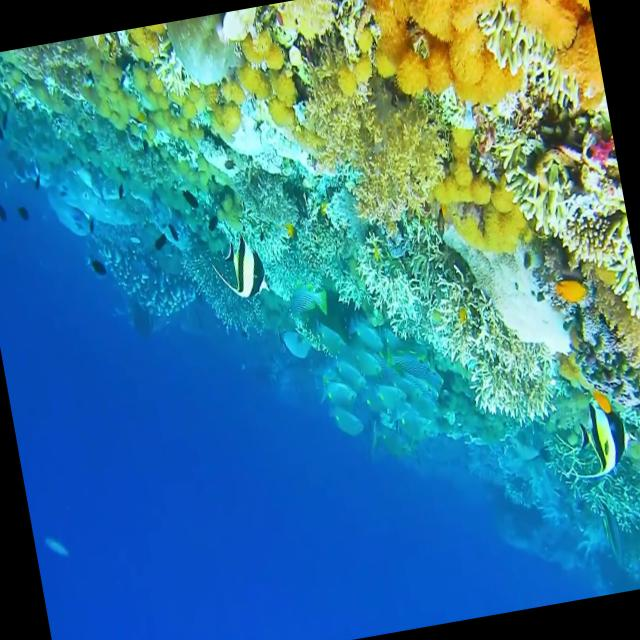fish: (560, 386, 640, 498), (204, 224, 275, 315), (554, 266, 594, 314), (590, 383, 615, 421), (175, 178, 202, 210)
